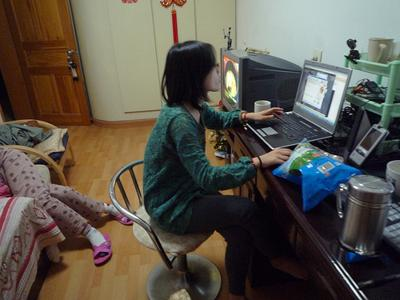person: (140, 41, 317, 300)
